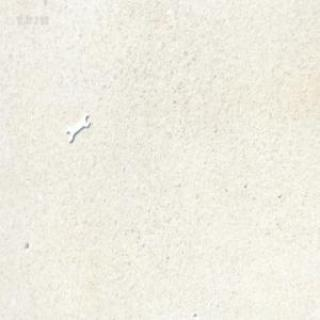Wrenchtrack_idkeyframe: (65, 113, 90, 146)
